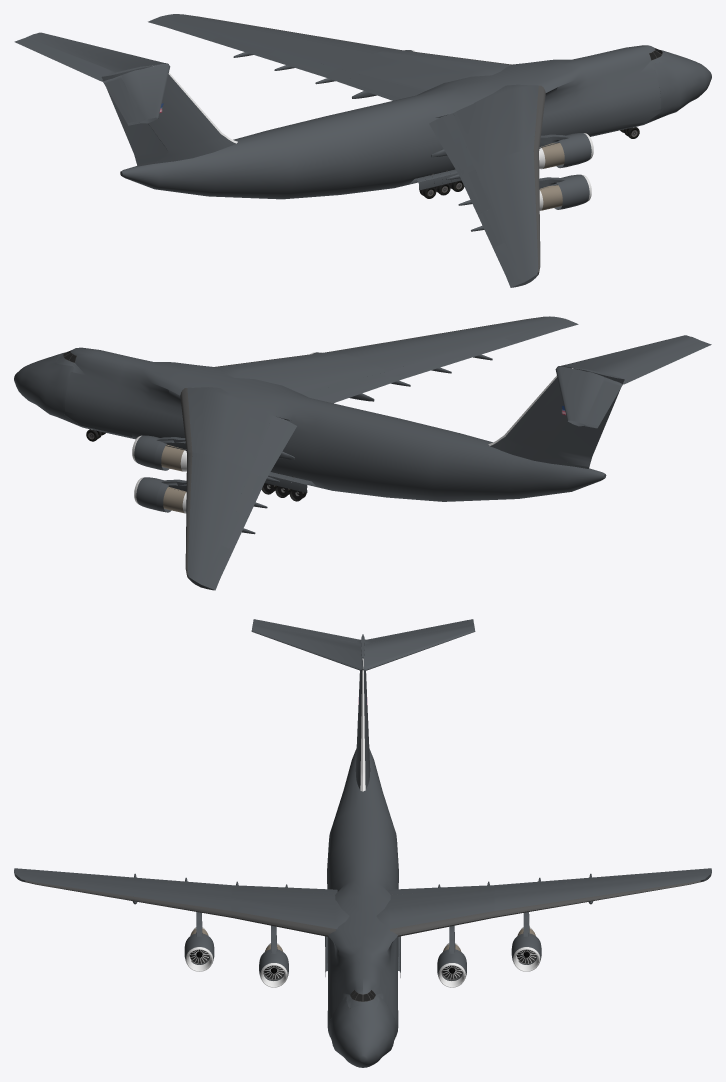
The picture shows the model from 3 angles, top to bottom: view 1: azimuth 30°, elevation 25°; view 2: azimuth 150°, elevation 25°; view 3: azimuth 270°, elevation 25°; orthographic projection. The views are drawn at different scales.
Visible parts, largest first — view 1: Cargo door; view 2: Cargo door; view 3: Cargo door.
Part boxes in pixels (x1,y1,x2,y2): Cargo door: (14, 14, 711, 287); Cargo door: (14, 316, 711, 590); Cargo door: (14, 619, 711, 1067).
Size of the model in its own units: 80.84 by 22.76 by 79.64.
16 materials, 4 textured.
